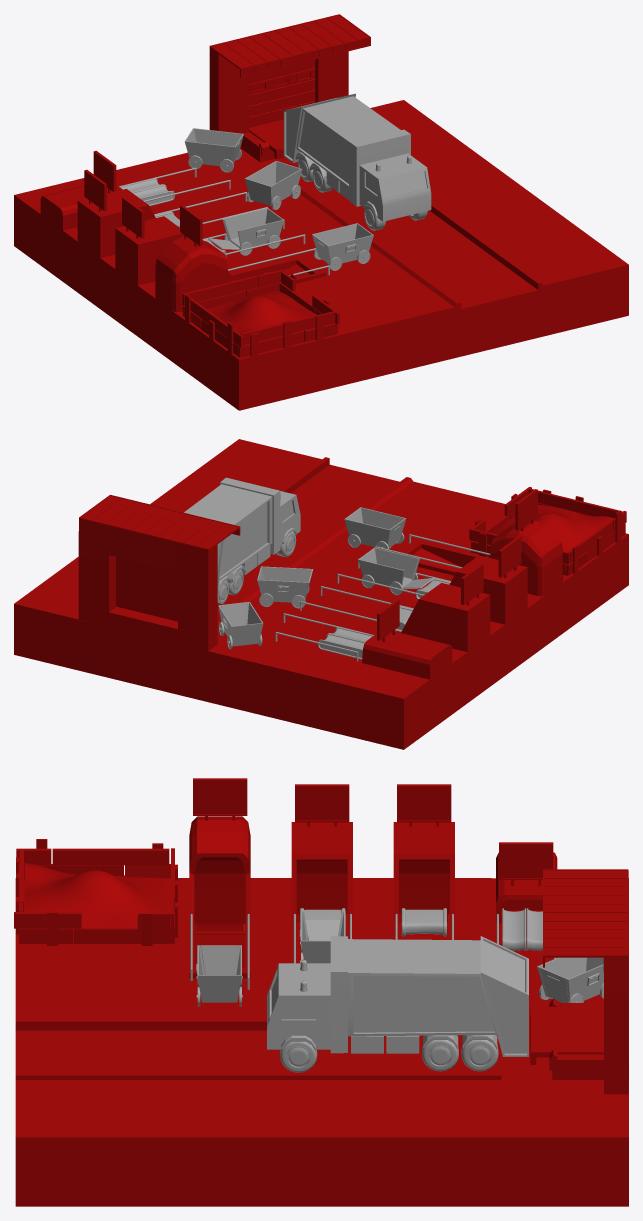
The model's file is centre _de_tri_new.fbx.
3 views of the same model, one above another, from view 1: azimuth 30°, elevation 25°; view 2: azimuth 150°, elevation 25°; view 3: azimuth 270°, elevation 25° (orthographic). The views are drawn at different scales.
Parts seen in each view (by area): view 1: sol, camion1, chariot6 (×4), toit_zone_de_dechargement, mur_zone_de_dechargement, porte_zone_de_dechargement, compost, planche24, planche21, sol__zone_de_dechargement, Panneau_indication_dechet4, Panneau_indication_dechet5 (+3 smaller); view 2: sol, mur_zone_de_dechargement, camion1, chariot6 (×4), toit_zone_de_dechargement, porte_zone_de_dechargement, compost, planche21, tapis_automatique10, Panneau_indication_dechet5, Panneau_indication_dechet7, Panneau_indication_dechet6 (+3 smaller); view 3: sol, camion1, toit_zone_de_dechargement, compost, chariot6 (×3), sol__zone_de_dechargement, mur_zone_de_dechargement, trappe_chariot1 (×3), Panneau_indication_dechet5, Panneau_indication_dechet6, Panneau_indication_dechet4, planche26 (+14 smaller).
Part boxes in pixels (x1,y1,x2,y2): sol: [14, 100, 628, 410]; camion1: [283, 93, 431, 221]; chariot6 (×4): [184, 128, 373, 263]; toit_zone_de_dechargement: [209, 14, 370, 77]; mur_zone_de_dechargement: [209, 47, 348, 148]; porte_zone_de_dechargement: [249, 59, 315, 127]; compost: [207, 291, 316, 333]; planche24: [182, 275, 258, 305]; planche21: [241, 314, 318, 345]; sol__zone_de_dechargement: [249, 120, 284, 159]; Panneau_indication_dechet4: [180, 205, 202, 246]; Panneau_indication_dechet5: [122, 197, 144, 238]; sol: [14, 439, 628, 749]; mur_zone_de_dechargement: [78, 518, 217, 650]; camion1: [184, 477, 300, 594]; chariot6 (×4): [218, 507, 419, 646]; toit_zone_de_dechargement: [79, 495, 240, 550]; porte_zone_de_dechargement: [116, 557, 177, 620]; compost: [493, 504, 613, 563]; planche21: [543, 492, 622, 518]; tapis_automatique10: [318, 633, 365, 659]; Panneau_indication_dechet5: [498, 536, 521, 577]; Panneau_indication_dechet7: [377, 599, 399, 642]; Panneau_indication_dechet6: [461, 563, 483, 605]; sol: [15, 816, 628, 1206]; camion1: [267, 936, 528, 1056]; toit_zone_de_dechargement: [543, 869, 628, 967]; compost: [24, 863, 170, 931]; chariot6 (×3): [197, 911, 603, 1002]; sol__zone_de_dechargement: [530, 1006, 603, 1064]; mur_zone_de_dechargement: [603, 870, 628, 1094]; trappe_chariot1 (×3): [200, 920, 568, 1002]; Panneau_indication_dechet5: [295, 784, 349, 826]; Panneau_indication_dechet6: [397, 784, 451, 826]; Panneau_indication_dechet4: [193, 778, 247, 820]; planche26: [52, 848, 169, 865].
Size of the model in its own units: 1200 by 449 by 1203.
